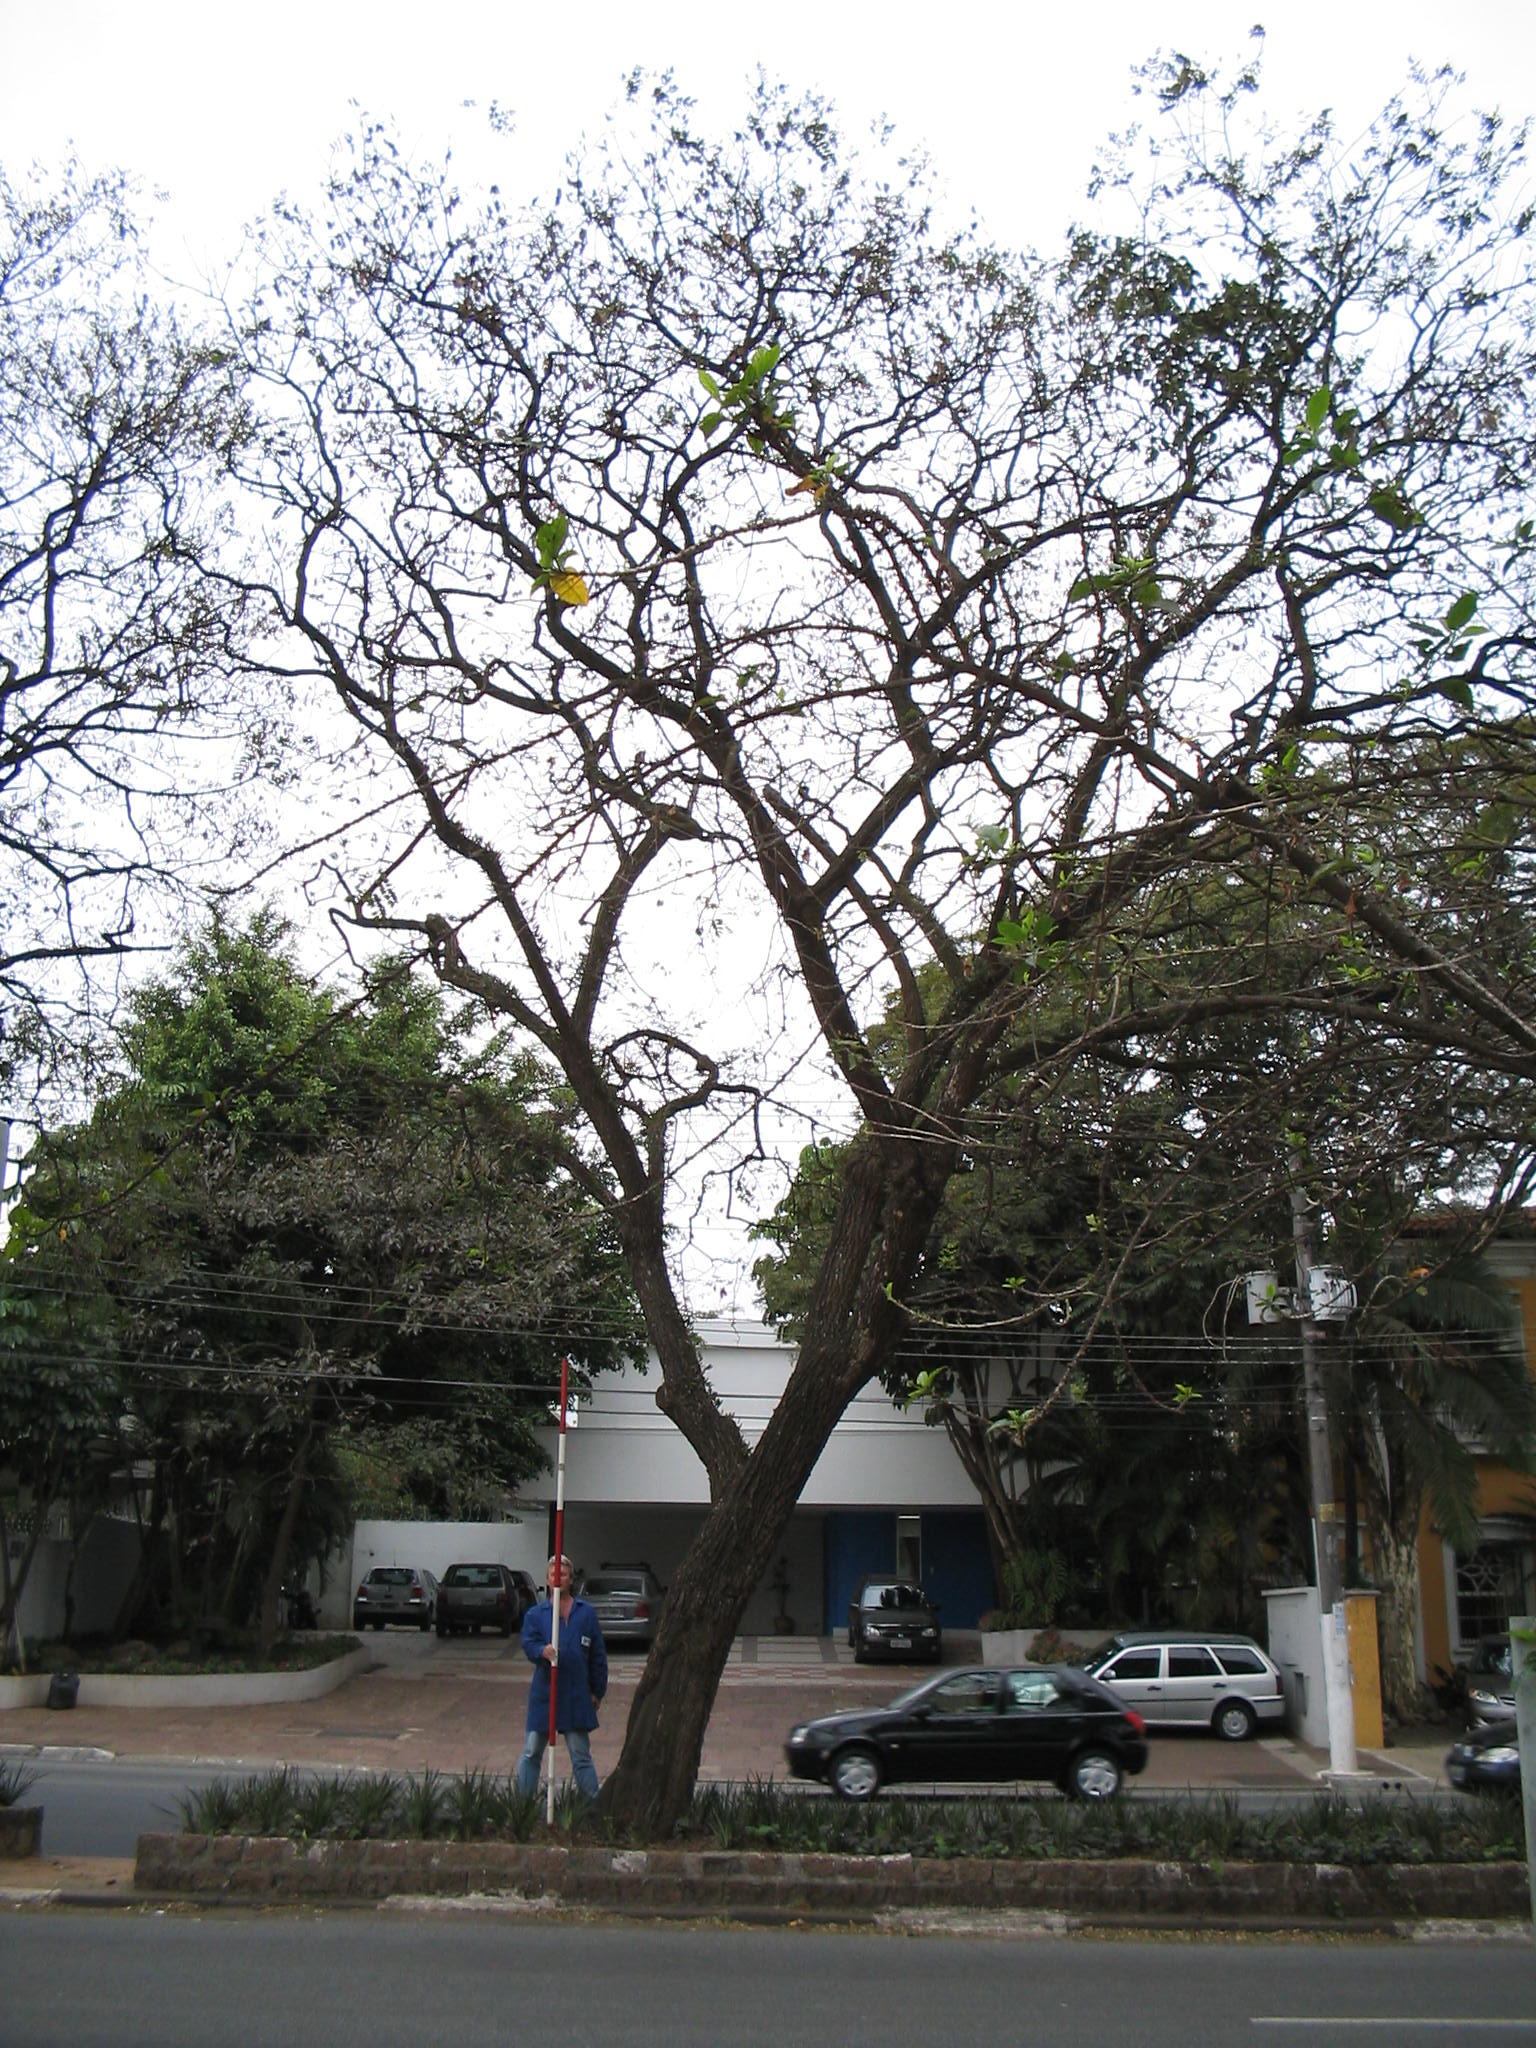stem: (573, 1466, 828, 1840)
stick: (521, 1355, 589, 1834)
tree: (168, 16, 1525, 1846)
